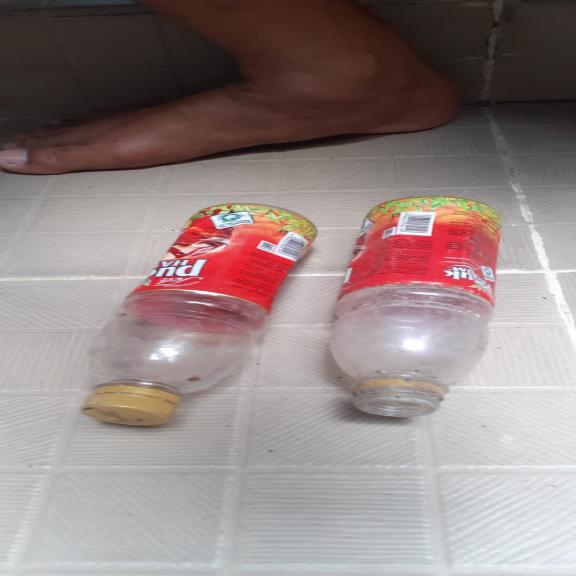Plastik: (77, 201, 319, 429), (330, 196, 504, 418)
